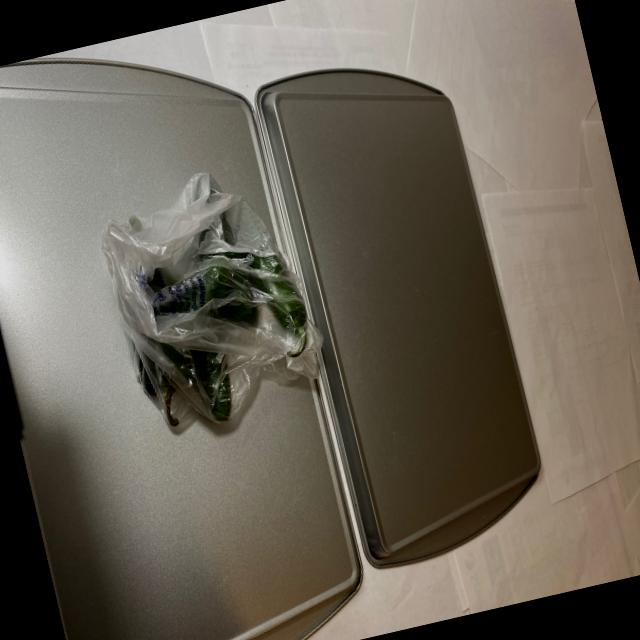chilli: (96, 164, 324, 444)
